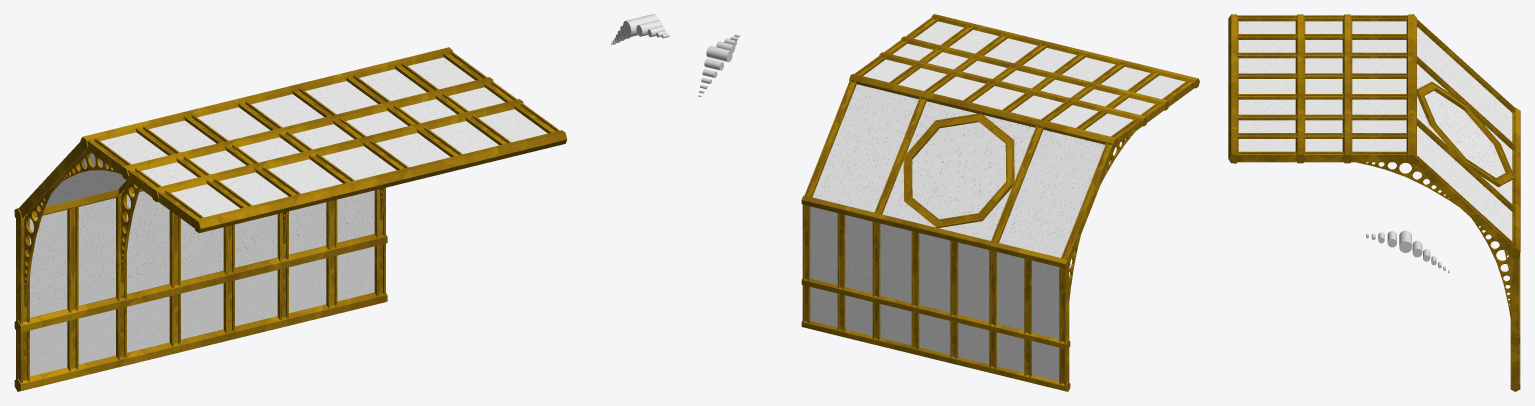
Rendered from Roof astronomy.glb.
3 renders of one model, left to right at view 1: azimuth 30°, elevation 25°; view 2: azimuth 150°, elevation 25°; view 3: azimuth 270°, elevation 25°, orthographic. The views are drawn at different scales.
Visible parts, largest first — view 1: Cylinder.003, Cylinder.002, Cylinder.007, Plane.009, Plane.014, Plane.008, Cylinder.005, Cylinder.004, Cylinder.001, Plane.013, Plane.015, Plane.016 (+51 smaller); view 2: Plane.045, Plane.043, Plane.044, Circle, Cylinder, Cylinder.001, Plane.012, Plane.013, Plane.014, Cylinder.002, Cylinder.007, Plane.008 (+50 smaller); view 3: Plane.045, Plane.044, Plane.043, Circle, Cube.011, Cylinder.003, Cylinder.001, Cylinder.005, Cylinder.004, Cube.010, Cylinder, Cube.008 (+35 smaller).
Boxes of the visible parts, x1,y1,x2,y2 form: Cylinder.003: (193, 130, 567, 233); Cylinder.002: (14, 292, 387, 391); Cylinder.007: (14, 234, 387, 333); Plane.009: (78, 198, 115, 305); Plane.014: (127, 191, 169, 293); Plane.008: (30, 210, 67, 317); Cylinder.005: (151, 99, 523, 202); Cylinder.004: (121, 77, 493, 180); Cylinder.001: (80, 47, 452, 150); Plane.013: (181, 218, 223, 280); Plane.015: (127, 296, 169, 352); Plane.016: (181, 283, 223, 339); Plane.045: (882, 101, 1035, 240); Plane.043: (812, 84, 918, 212); Plane.044: (999, 129, 1105, 257); Circle: (903, 113, 1014, 227); Cylinder: (801, 195, 1070, 268); Cylinder.001: (849, 74, 1118, 147); Plane.012: (880, 223, 911, 303); Plane.013: (919, 233, 950, 312); Plane.014: (958, 242, 989, 321); Cylinder.002: (801, 320, 1070, 391); Cylinder.007: (801, 278, 1070, 349); Plane.008: (1032, 260, 1059, 338); Plane.045: (1417, 64, 1512, 203); Plane.044: (1417, 27, 1512, 141); Plane.043: (1417, 126, 1512, 240); Circle: (1417, 81, 1514, 187); Cube.011: (1237, 151, 1407, 162); Cylinder.003: (1228, 14, 1239, 163); Cylinder.001: (1406, 14, 1416, 163); Cylinder.005: (1295, 14, 1305, 163); Cylinder.004: (1342, 14, 1352, 163); Cube.010: (1411, 155, 1515, 253); Cylinder: (1510, 108, 1520, 257); Cube.008: (1237, 15, 1407, 21).
Bounding box in the file's own units: 175 × 89.42 × 99.66.
5 materials, 5 textured.
